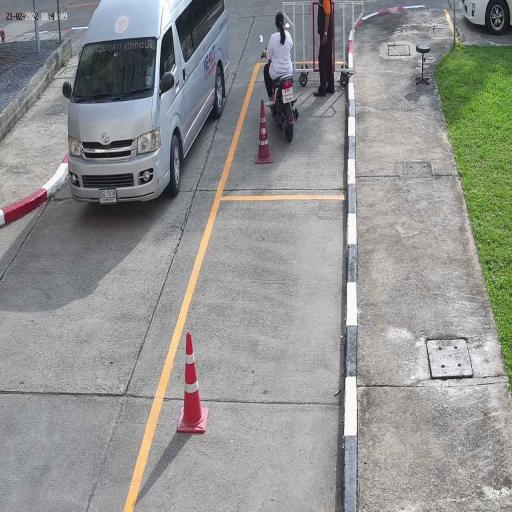car: (67, 0, 231, 208)
motorcycle: (270, 73, 298, 142)
